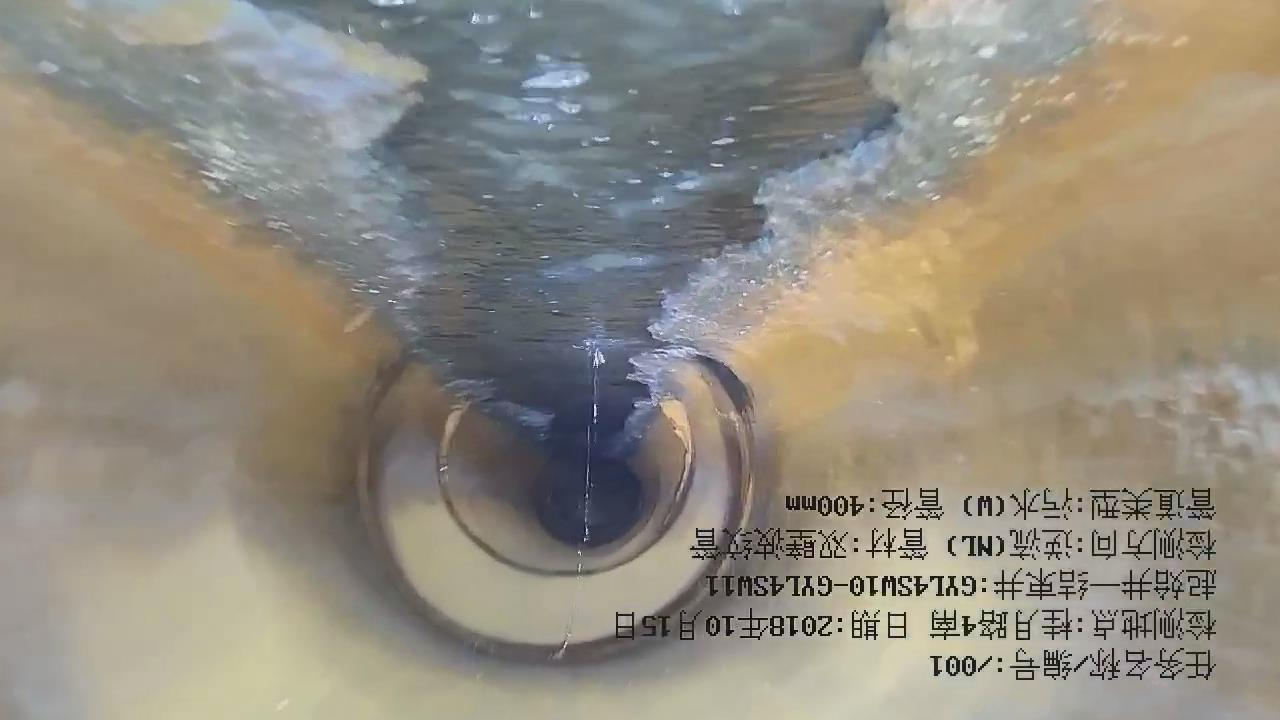JG: (1, 1, 566, 442), (607, 1, 1115, 454)
SL: (533, 337, 618, 669)
